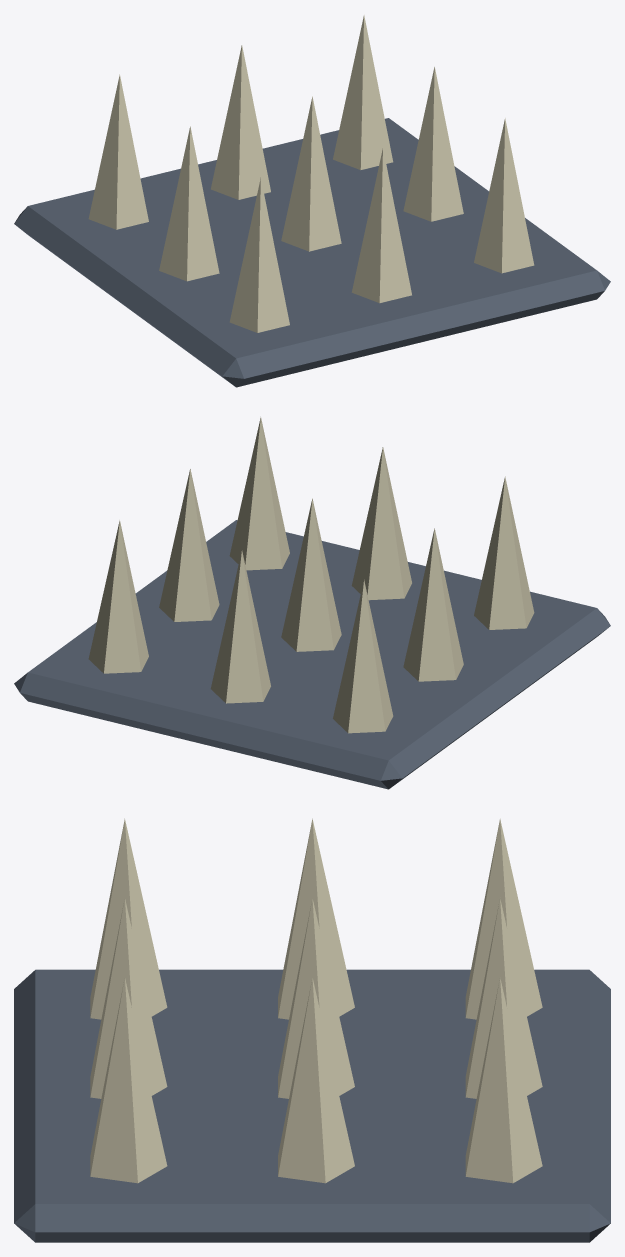
File: trap-spikes.fbx
The picture shows the model from 3 angles, top to bottom: view 1: azimuth 30°, elevation 25°; view 2: azimuth 150°, elevation 25°; view 3: azimuth 270°, elevation 25°; orthographic projection. The views are drawn at different scales.
Visible parts, largest first — view 1: pressure plate, spike, spike.001, spike.006, spike.007, spike.002, spike.004, spike.003, spike.005, spike.008; view 2: pressure plate, spike.004, spike.001, spike.005, spike.007, spike.008, spike.002, spike, spike.006, spike.003; view 3: pressure plate, spike.008, spike.006, spike.007, spike.002, spike.005, spike, spike.003, spike.004, spike.001.
Part boxes in pixels (x1,y1,x2,y2): pressure plate: (14,118,610,387); spike: (229,177,289,332); spike.001: (159,126,219,281); spike.006: (474,118,534,273); spike.007: (403,67,463,221); spike.002: (88,74,148,229); spike.004: (281,96,341,251); spike.003: (351,148,411,303); spike.005: (211,45,270,199); spike.008: (333,15,393,169); pressure plate: (14,520,610,789); spike.004: (281,498,341,651); spike.001: (403,528,463,681); spike.005: (210,550,270,703); spike.007: (159,469,219,621); spike.008: (88,520,148,673); spike.002: (333,579,393,733); spike: (474,476,534,629); spike.006: (229,417,289,570); spike.003: (351,447,411,600); pressure plate: (14,969,610,1242); spike.008: (465,977,542,1183); spike.006: (90,977,167,1183); spike.007: (278,977,354,1183); spike.002: (465,818,542,1019); spike.005: (465,898,542,1098); spike: (90,818,167,1019); spike.003: (90,898,167,1098); spike.004: (278,898,354,1098); spike.001: (278,818,354,1019).
Size of the model in its own units: 70 by 29.5 by 70.
